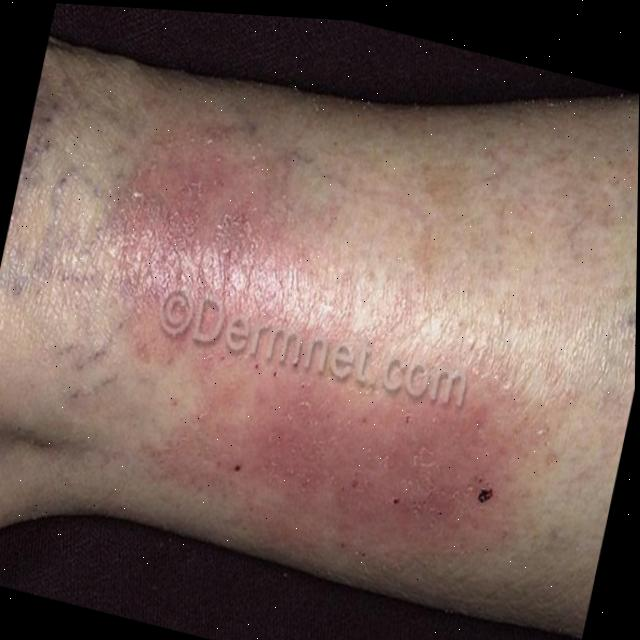Eczema: (64, 104, 569, 596)
